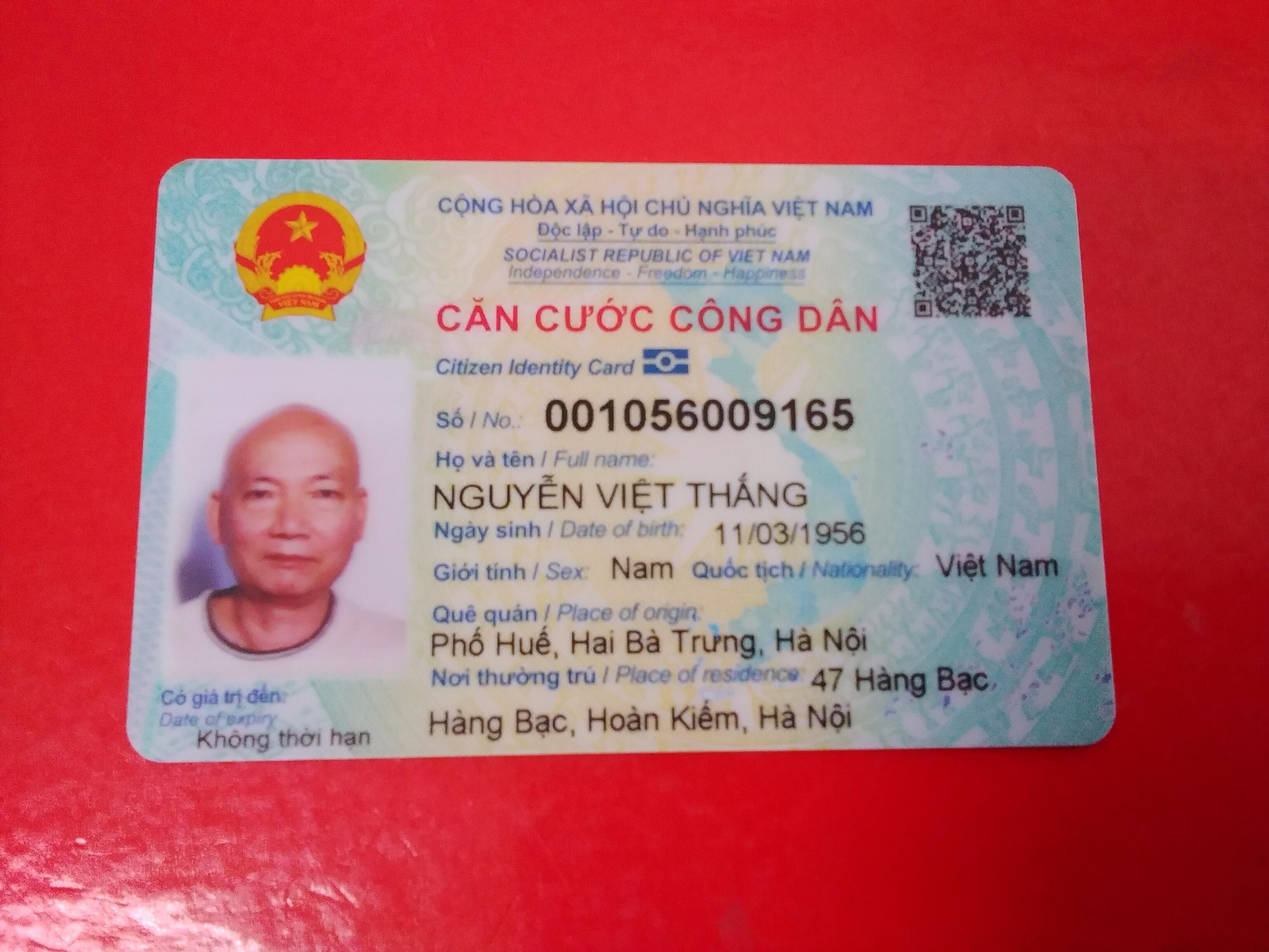ID: (533, 381, 878, 437)
birth: (710, 515, 871, 551)
name: (428, 470, 812, 514)
place: (427, 621, 874, 666)
residence: (409, 697, 868, 743), (806, 659, 994, 701)
